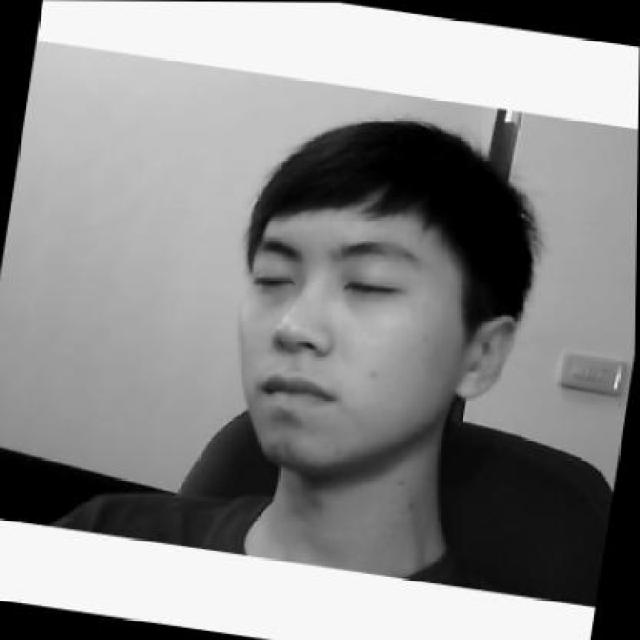inattentif: (216, 94, 546, 500)
